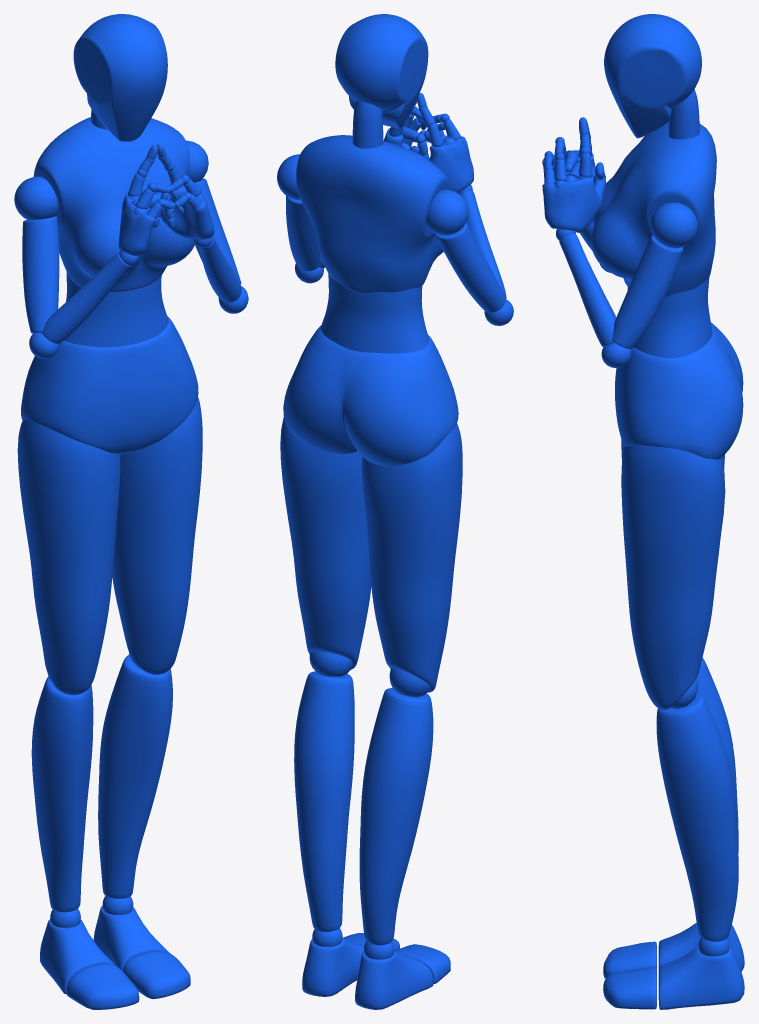
Rendered from Diosa.fbx.
3 views of the same model, side by side, from view 1: azimuth 30°, elevation 25°; view 2: azimuth 150°, elevation 25°; view 3: azimuth 270°, elevation 25° (orthographic).
Parts seen in each view (by area): view 1: Adjustable Mannequin Mesh; view 2: Adjustable Mannequin Mesh; view 3: Adjustable Mannequin Mesh.
Part boxes in pixels (x1,y1,x2,y2): Adjustable Mannequin Mesh: (14, 14, 248, 1009); Adjustable Mannequin Mesh: (277, 14, 513, 1009); Adjustable Mannequin Mesh: (542, 14, 744, 1009).
Bounding box in the file's own units: 36.59 × 156 × 29.58.
